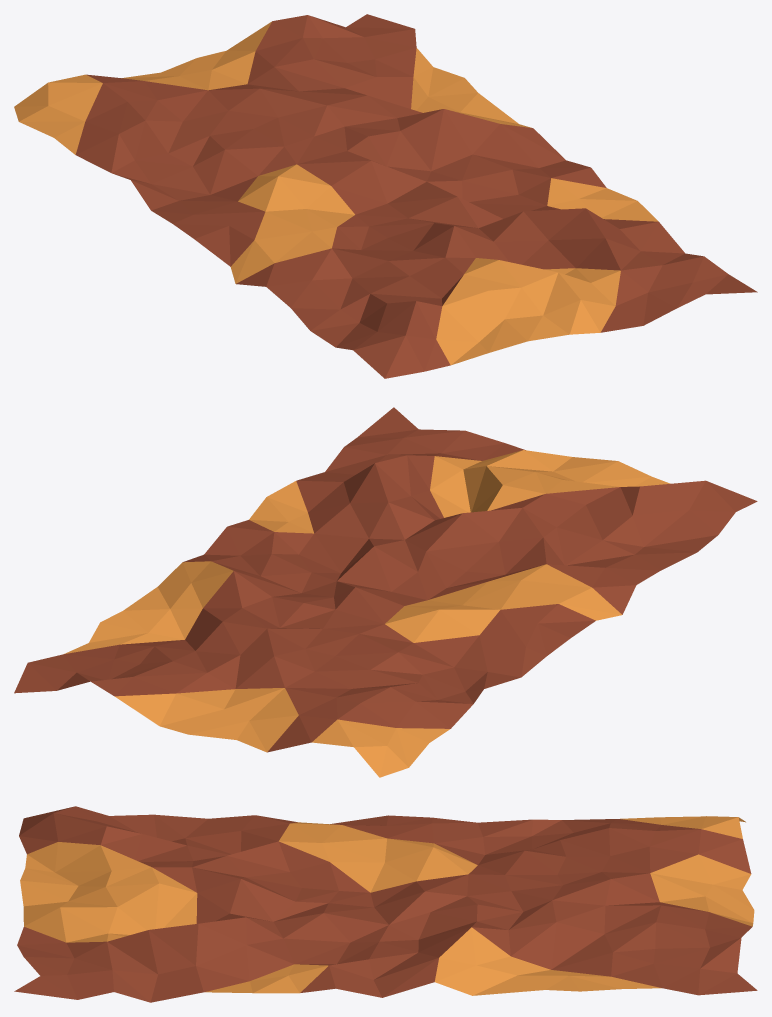
The model's file is SM_GoldenGooseFloor.fbx.
3 views of the same model, one above another, from view 1: azimuth 30°, elevation 25°; view 2: azimuth 150°, elevation 25°; view 3: azimuth 270°, elevation 25° (orthographic). The views are drawn at different scales.
Parts seen in each view (by area): view 1: Plane; view 2: Plane; view 3: Plane.
Part boxes in pixels (<box>): Plane: <box>14,14,757,378</box>; Plane: <box>14,407,757,777</box>; Plane: <box>14,806,757,1002</box>.
Size of the model in its own units: 951 by 115 by 1633.
